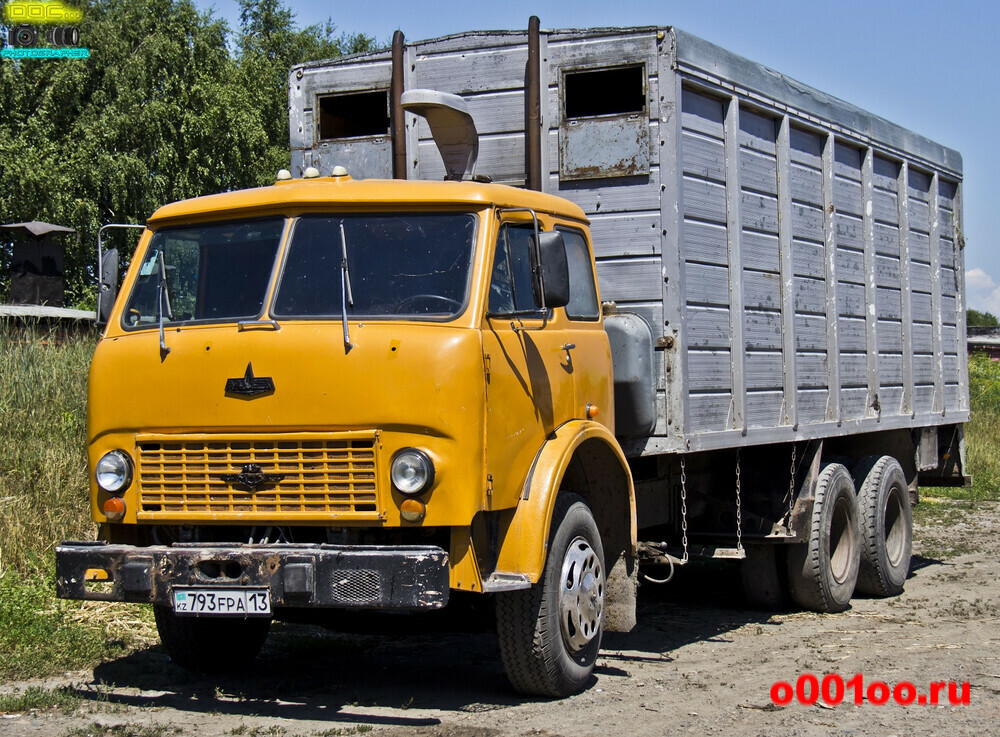license_plate: (174, 591, 268, 614)
